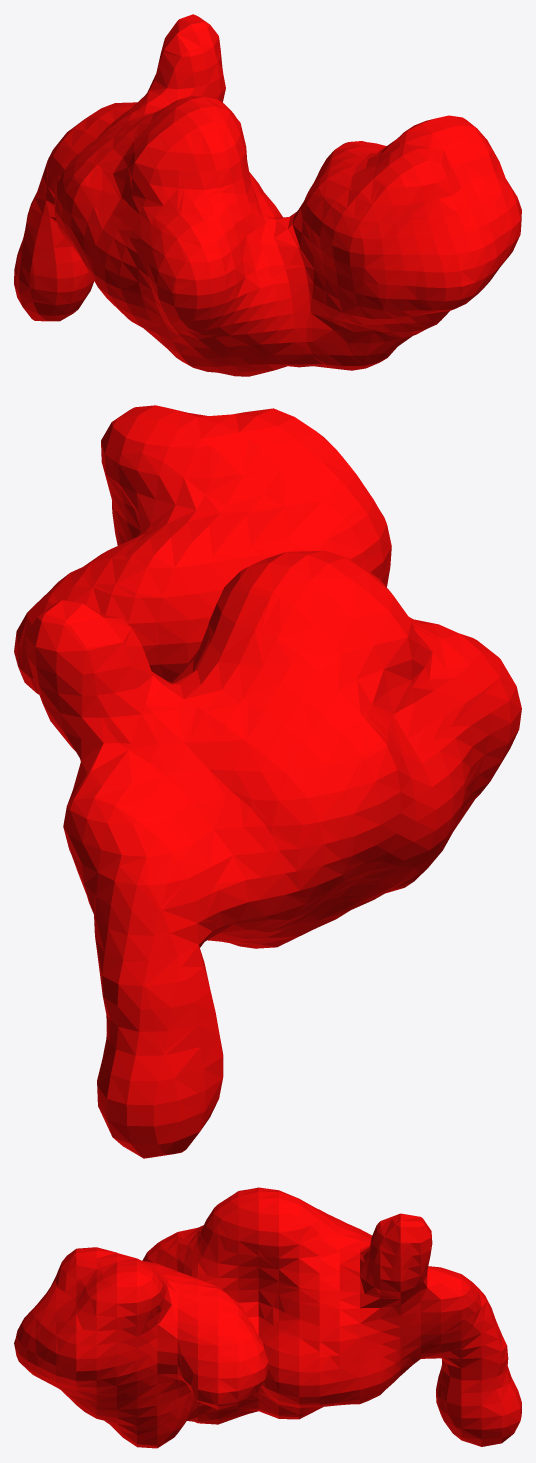
Rendered from fkpB_coarse.dae.
3 renders of one model, top to bottom at view 1: azimuth 30°, elevation 25°; view 2: azimuth 150°, elevation 25°; view 3: azimuth 270°, elevation 25°, orthographic. The views are drawn at different scales.
Visible parts, largest first — view 1: fkpB; view 2: fkpB; view 3: fkpB.
Part boxes in pixels (x1=…): fkpB: x1=14, y1=14, x2=521, y2=376; fkpB: x1=14, y1=405, x2=521, y2=1158; fkpB: x1=14, y1=1187, x2=521, y2=1448.
Size of the model in its own units: 45.49 by 42.26 by 70.99.
